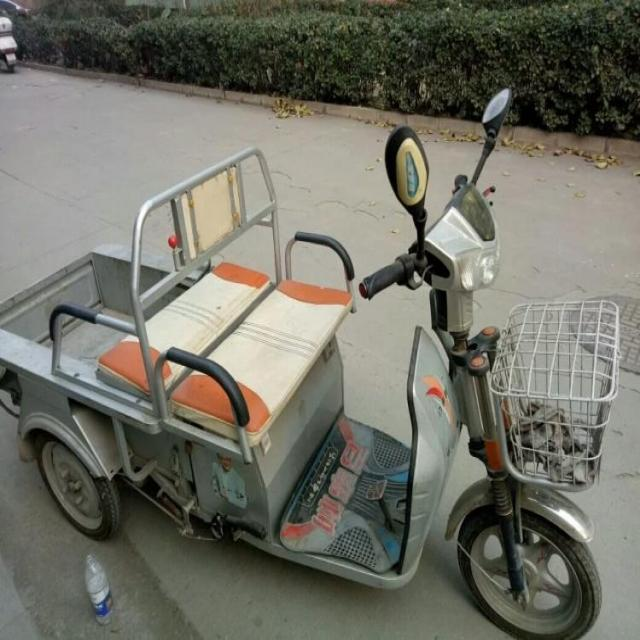motorbike: (0, 15, 16, 70)
tricycle: (3, 85, 622, 639)
